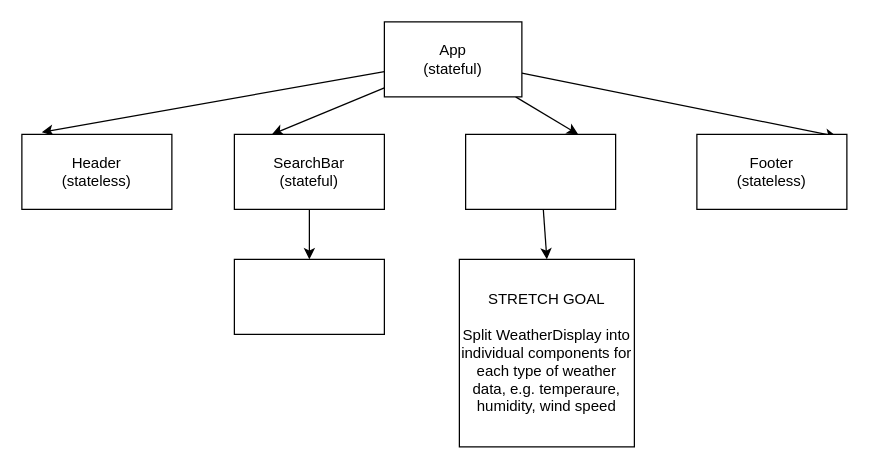
Image size: 869x469. Some labels were removed from this diagram. The shapes that lost their labels are listed below. From the top down, each one's box as (x1, y1, x2, y2) in pixels, then its label:
(464, 133, 616, 209): WeatherDisplay (stateless) (take in props of weather data)
(233, 258, 384, 334): SearchButton
